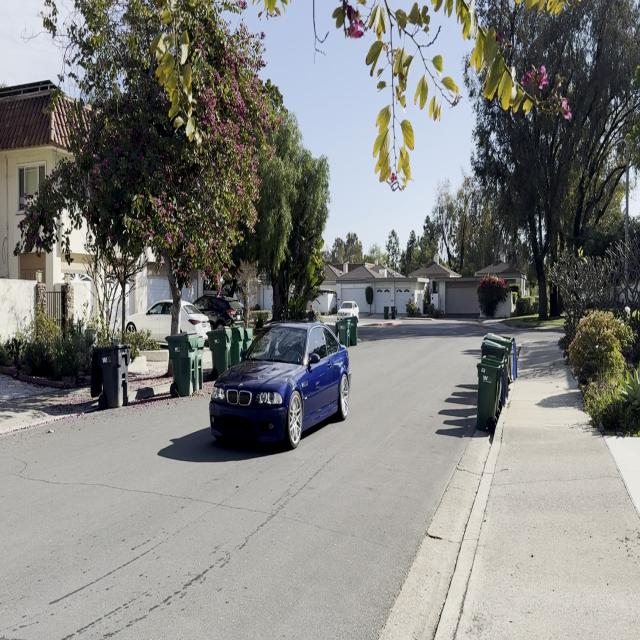Carbeetle: (204, 308, 359, 460)
